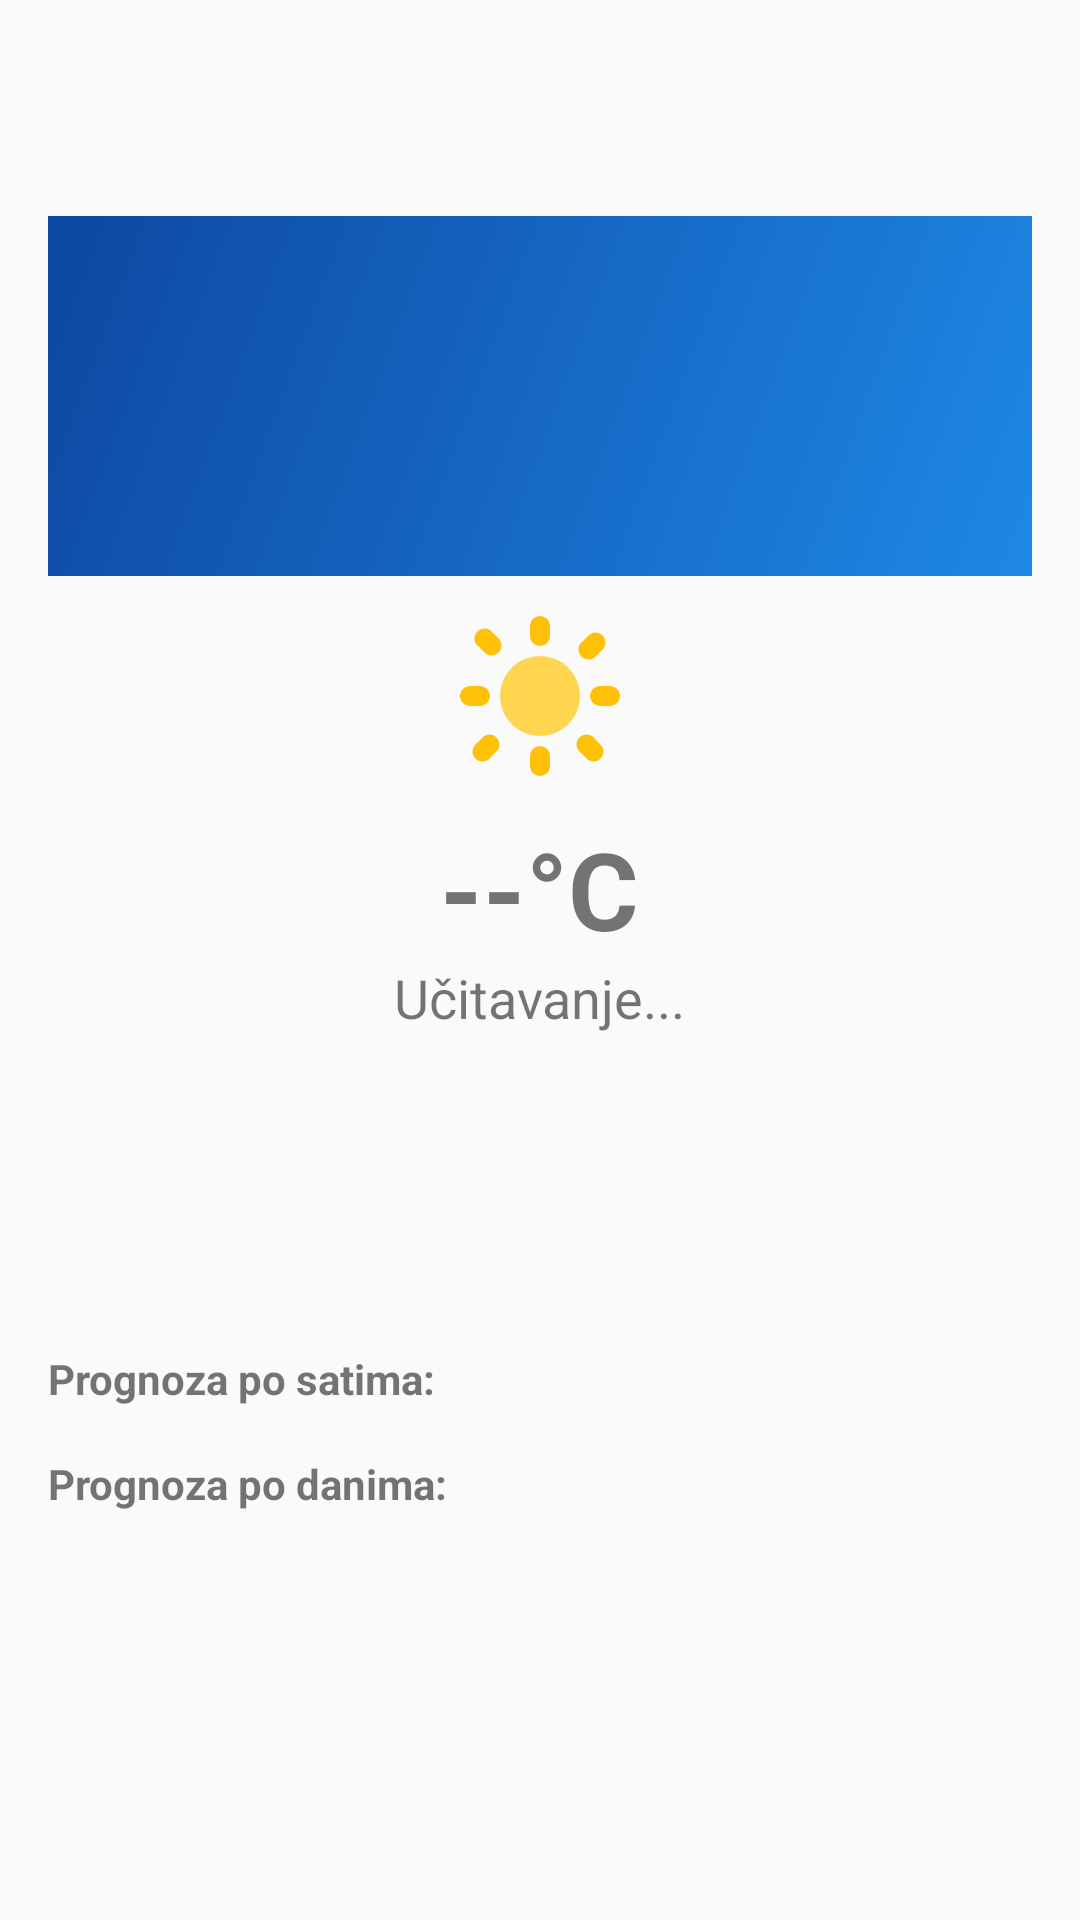

Named icons in this screenshot (1080 x 1920) and their bounding boxes, (x1, y1, x2, y2):
weather sunny: (460, 616, 620, 776)
